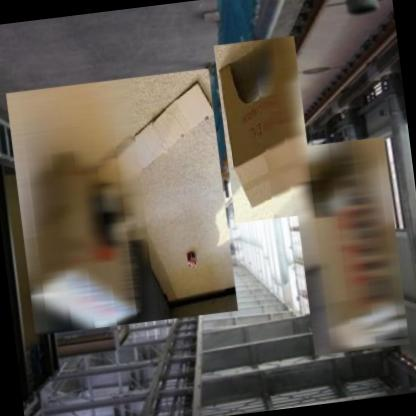box: (1, 63, 241, 339), (287, 132, 410, 358), (210, 32, 317, 225)
